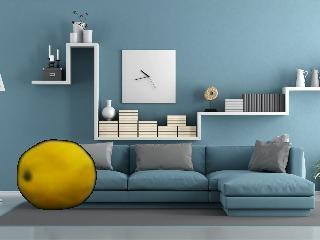lemon: (17, 139, 93, 208)
